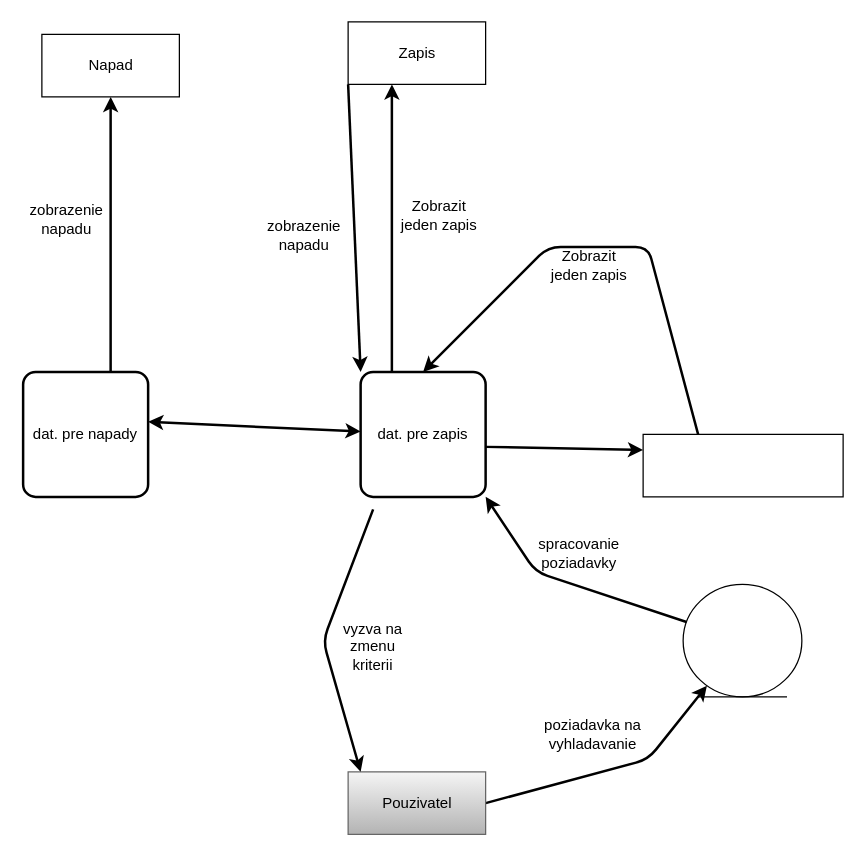
Image size: 865x856. Some labels were removed from this diagram. Here are the shapes that lost their labels. From the top down, the box of each, then its label:
(642, 433, 843, 497): Zobrazenie listu zapisov
(682, 583, 802, 697): Vyhladavanie
